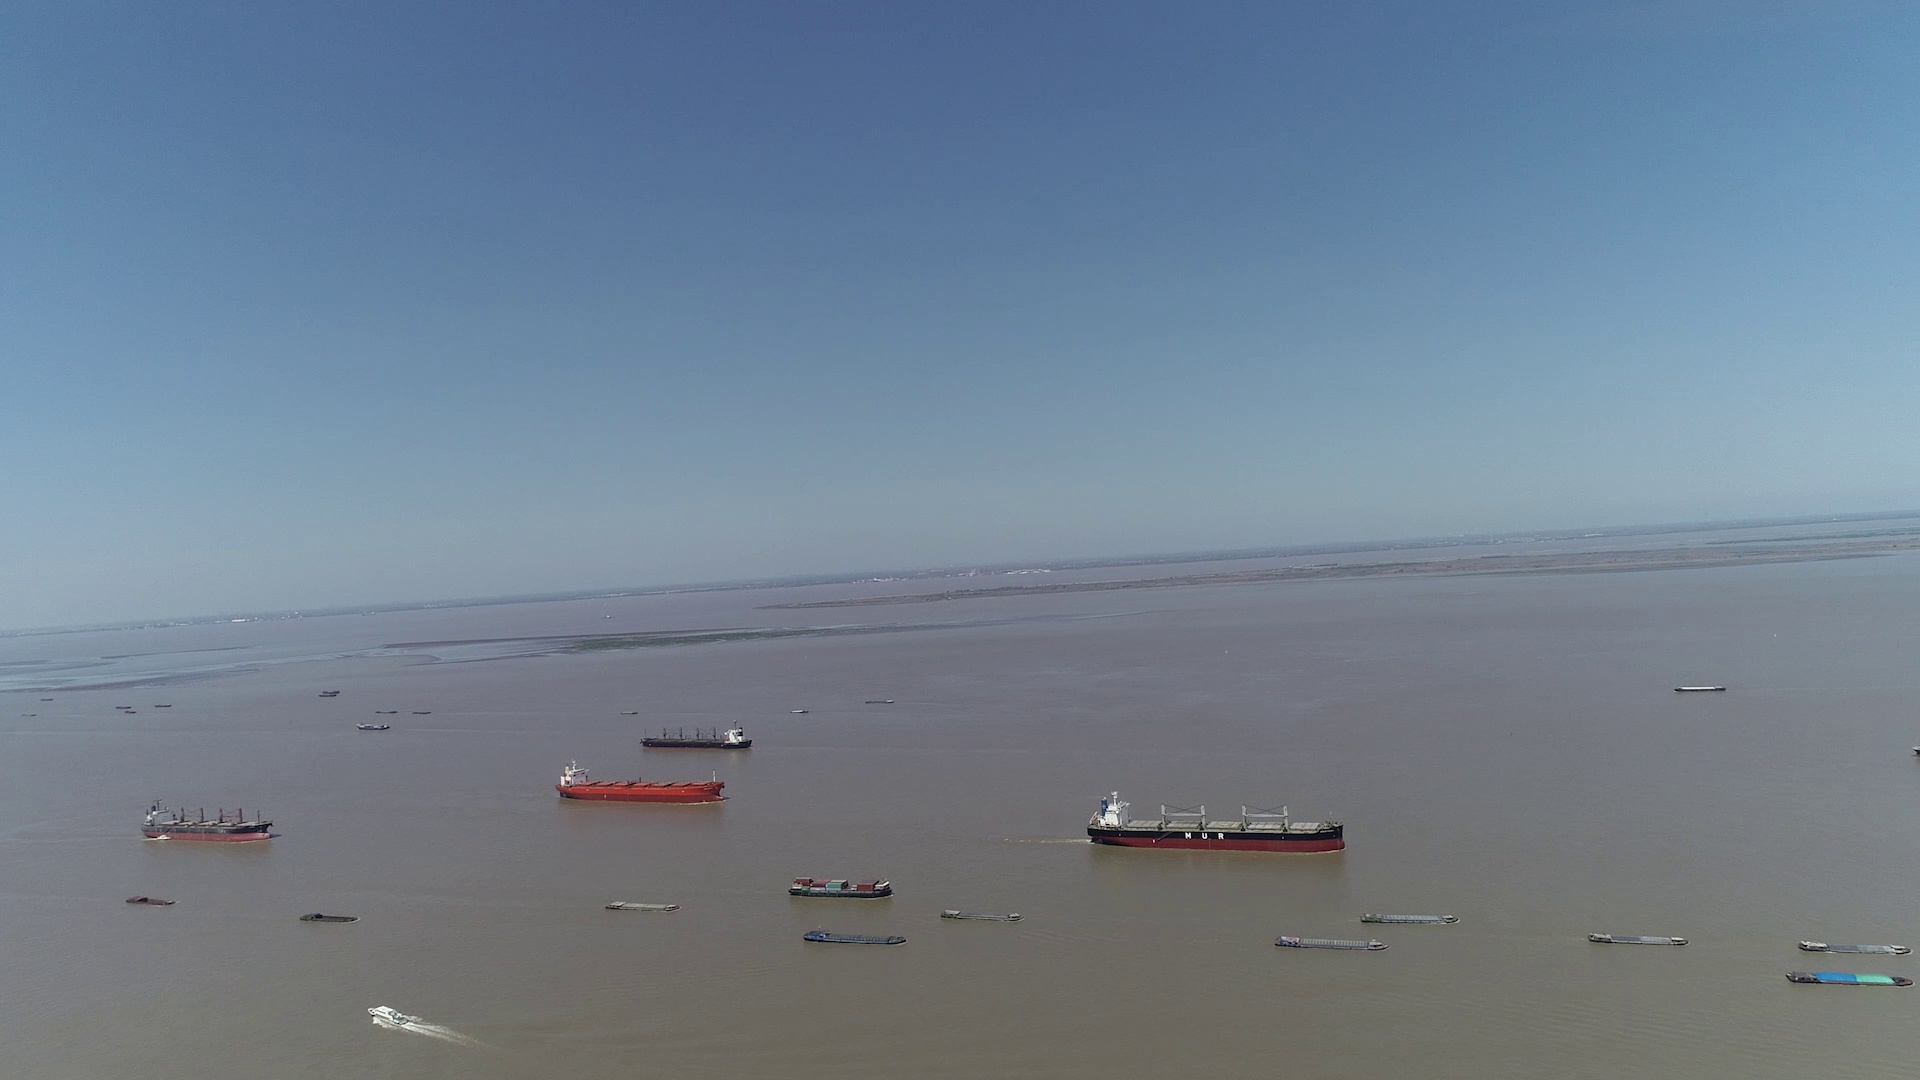ship: (1087, 789, 1345, 853), (554, 758, 727, 802), (141, 796, 273, 844), (640, 723, 753, 748), (787, 874, 891, 897), (1797, 938, 1909, 956), (1275, 934, 1386, 952), (1785, 972, 1913, 986), (369, 1002, 415, 1040), (804, 930, 909, 945), (1588, 930, 1687, 945), (939, 905, 1021, 922), (1360, 910, 1455, 924), (603, 899, 678, 913), (299, 913, 360, 923), (124, 894, 175, 906), (1675, 684, 1725, 692), (353, 721, 389, 729)
